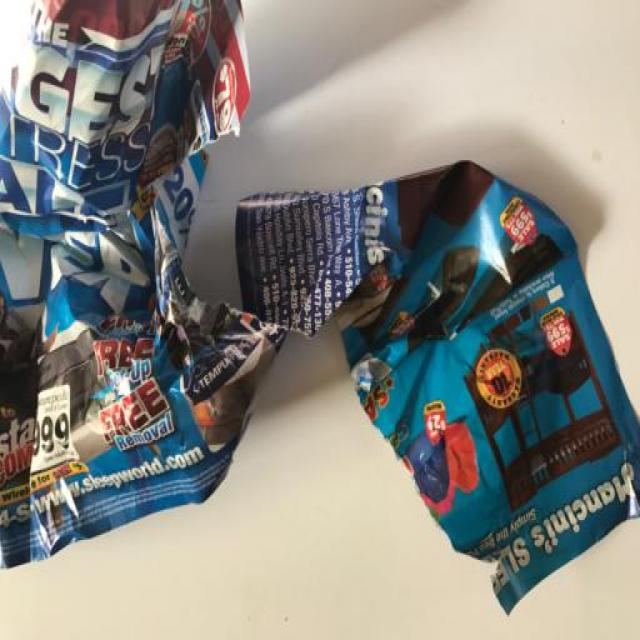paper: (4, 1, 640, 640)
